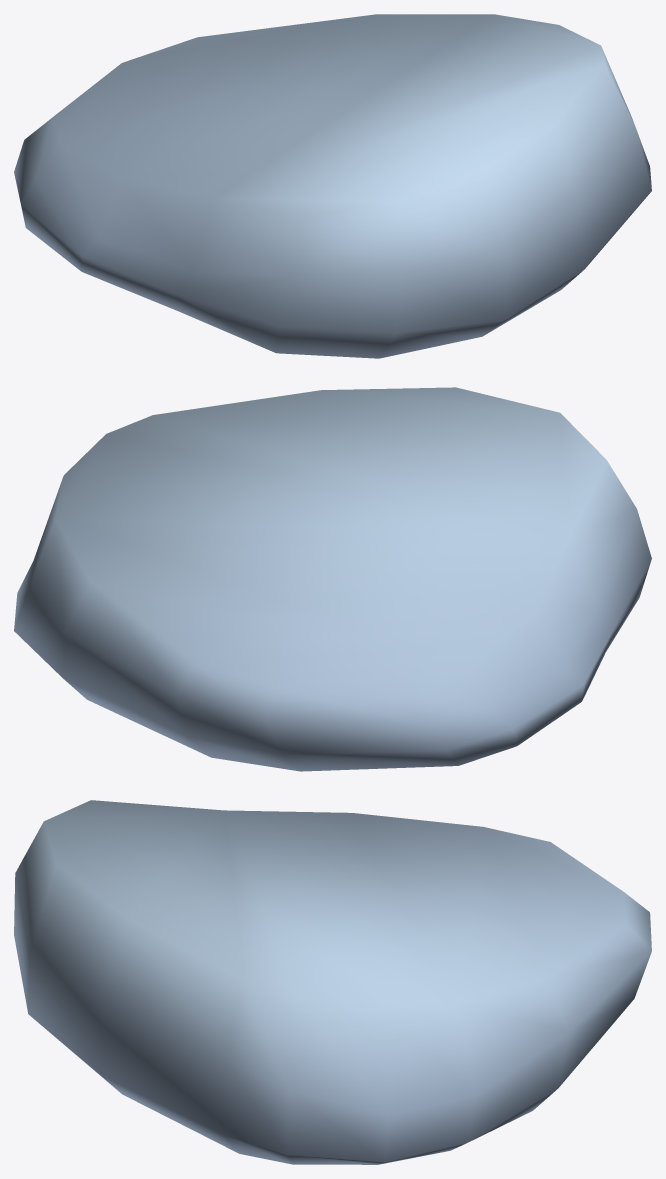
Rendered from Snow Clump 01.FBX.
The picture shows the model from 3 angles, top to bottom: view 1: azimuth 30°, elevation 25°; view 2: azimuth 150°, elevation 25°; view 3: azimuth 270°, elevation 25°; orthographic projection. The views are drawn at different scales.
Parts seen in each view (by area): view 1: Snow Clump 01; view 2: Snow Clump 01; view 3: Snow Clump 01.
Part boxes in pixels (x1,y1,x2,y2): Snow Clump 01: (14,14,651,358); Snow Clump 01: (14,387,651,771); Snow Clump 01: (14,800,651,1164).
Bounding box in the file's own units: 192 × 58.73 × 190.
1 material, 1 textured.
